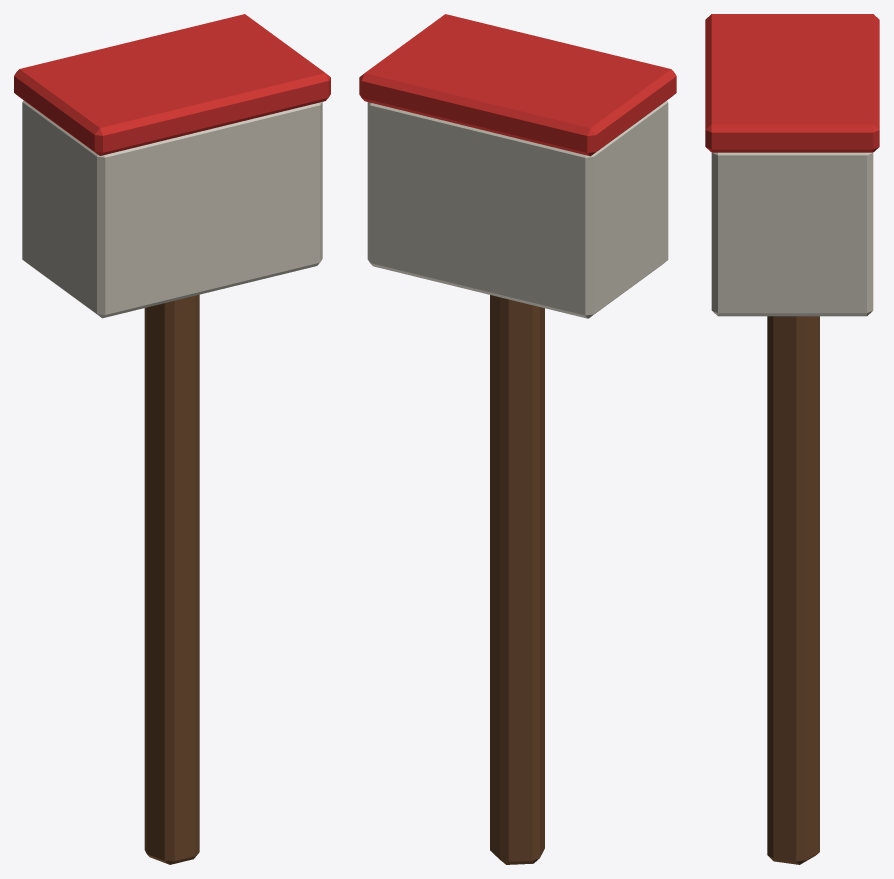
File: brevlada.glb
The picture shows the model from 3 angles, left to right: view 1: azimuth 30°, elevation 25°; view 2: azimuth 150°, elevation 25°; view 3: azimuth 270°, elevation 25°; orthographic projection.
Visible parts, largest first — view 1: brevlada; view 2: brevlada; view 3: brevlada.
Part boxes in pixels (left/top/right/bottom): brevlada: left=14, top=14, right=330, bottom=864; brevlada: left=359, top=14, right=676, bottom=864; brevlada: left=705, top=14, right=879, bottom=864.
Bounding box in the file's own units: 0.44 × 1.39 × 0.28.
